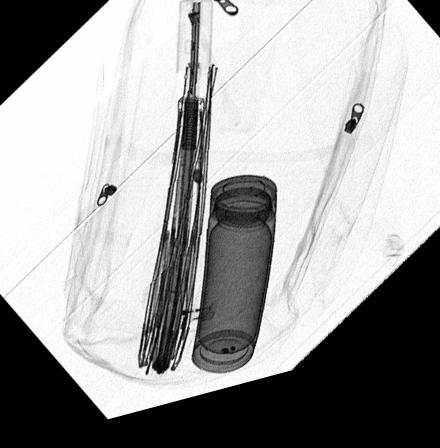Lighter: (169, 312, 215, 335)
